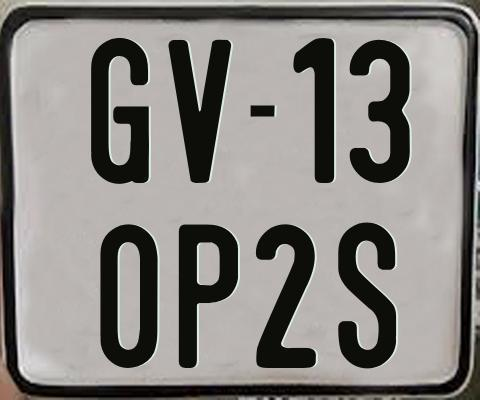0: (99, 223, 162, 372)
1: (291, 36, 335, 182)
2: (253, 222, 314, 372)
3: (347, 37, 413, 180)
G: (90, 35, 152, 186)
P: (176, 222, 236, 371)
S: (337, 222, 401, 373)
V: (168, 38, 231, 184)
